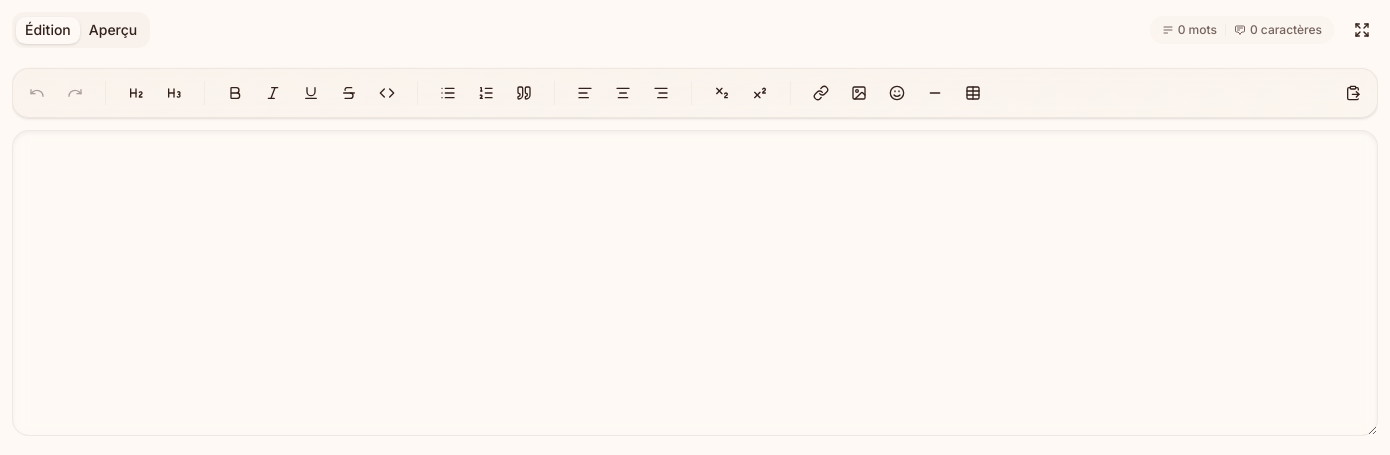
Scenario: ArticleContentEditor › prefixes the current line with a numbered marker
The image size is (1390, 455).
Type "element" into the text box. click: {"x": 695, "y": 283}
box: [12, 130, 1378, 436]
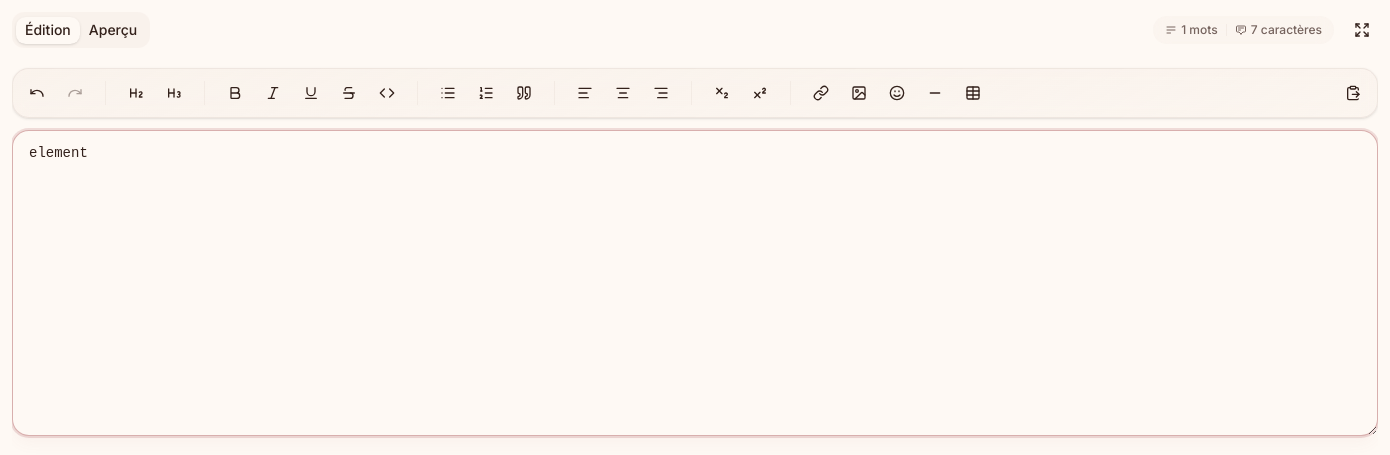
Click the button titled "Liste numérotée". click: {"x": 486, "y": 93}
box: [470, 77, 502, 109]
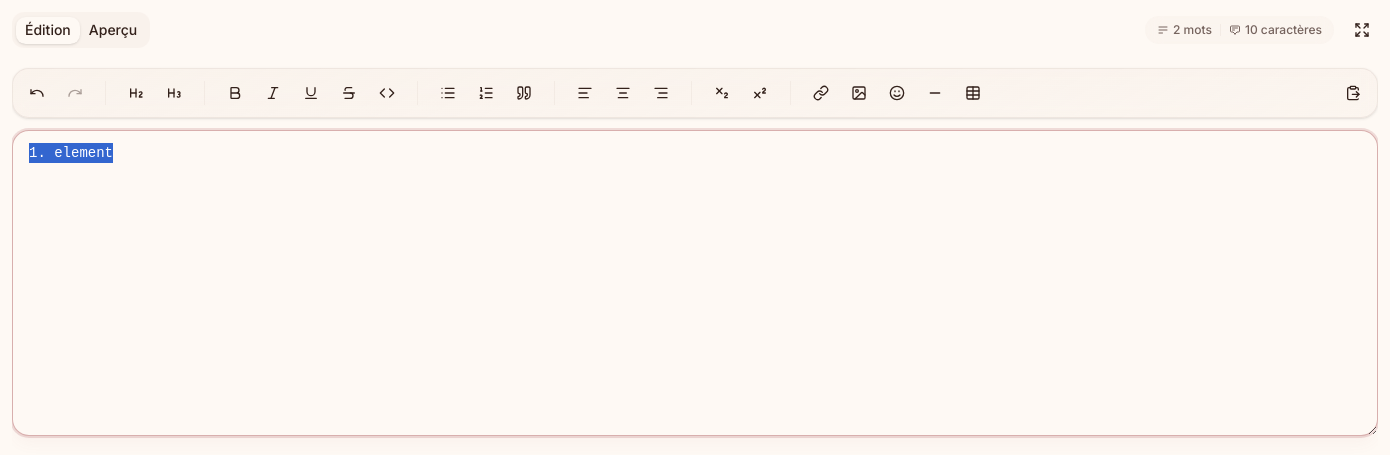
Expected: the text box holds "1. element"
